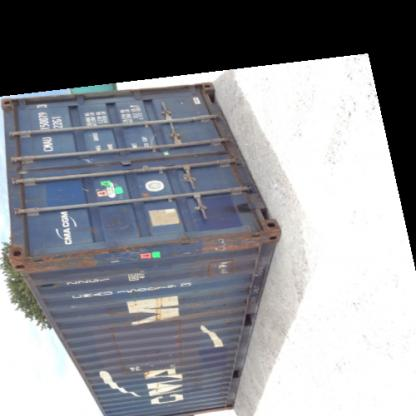Damage: (16, 240, 146, 276), (178, 223, 276, 255), (218, 314, 244, 398), (197, 258, 261, 279), (169, 316, 189, 370), (105, 324, 120, 375), (226, 194, 256, 216), (148, 290, 166, 324), (16, 180, 36, 209), (125, 358, 153, 376), (107, 214, 131, 233), (236, 284, 262, 300), (146, 376, 160, 397), (78, 182, 92, 198), (63, 302, 75, 312)
